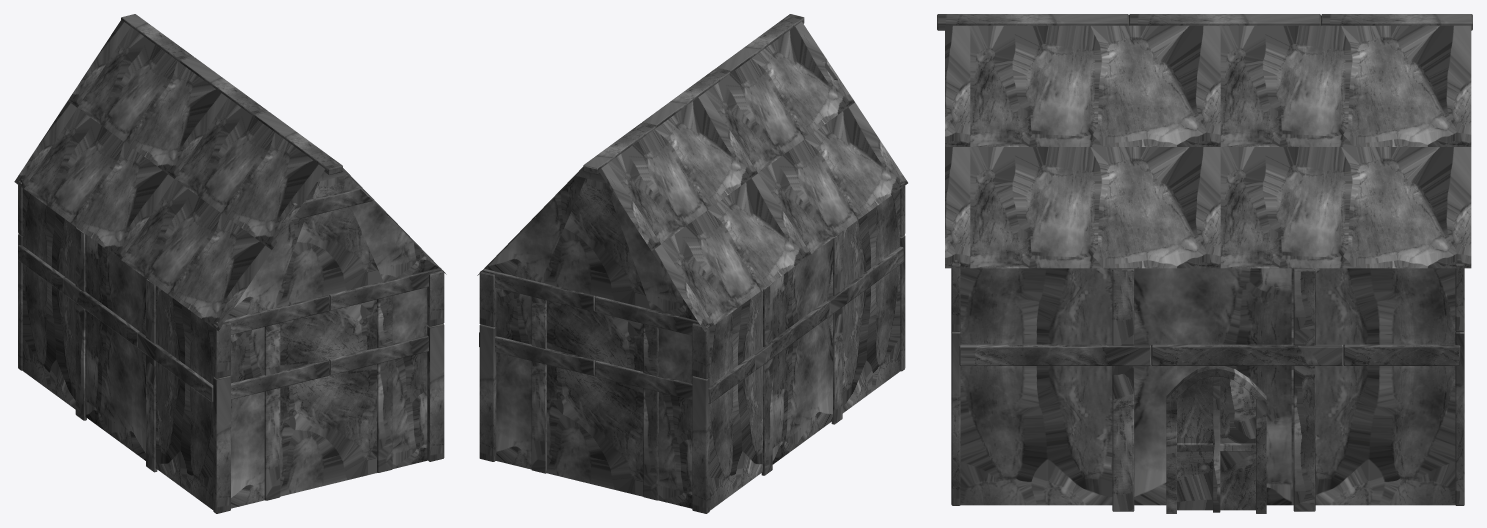
File: house 2.fbx
3 renders of one model, left to right at view 1: azimuth 30°, elevation 25°; view 2: azimuth 150°, elevation 25°; view 3: azimuth 270°, elevation 25°, orthographic. The views are drawn at different scales.
Parts seen in each view (by area): view 1: Cube.021; view 2: Cube.021; view 3: Cube.021.
Part boxes in pixels (<box>): Cube.021: <box>14,14,446,513</box>; Cube.021: <box>477,14,907,513</box>; Cube.021: <box>937,14,1472,513</box>.
Bounding box in the file's own units: 418 × 557 × 642.
